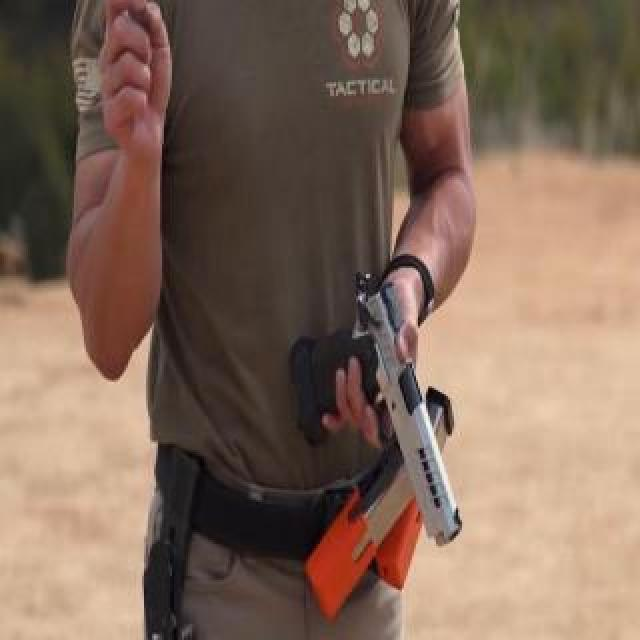Guns: (265, 249, 494, 552)
